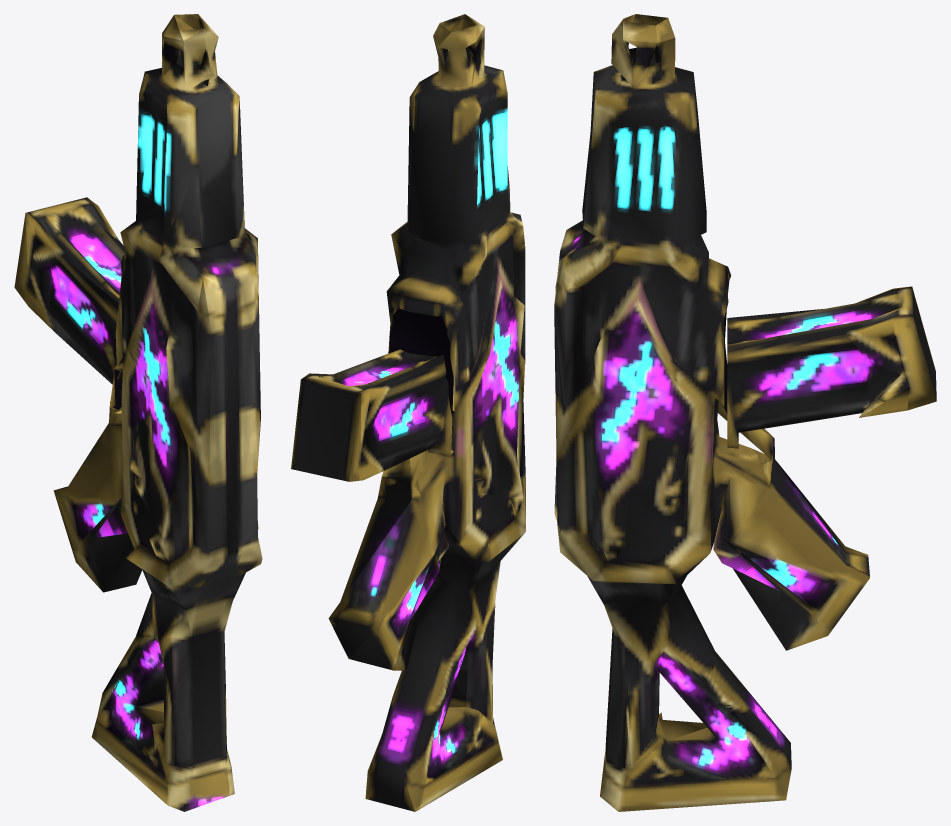
The model's file is k47_galaxy_relic.glb.
The picture shows the model from 3 angles, left to right: view 1: azimuth 30°, elevation 25°; view 2: azimuth 150°, elevation 25°; view 3: azimuth 270°, elevation 25°; orthographic projection. The views are drawn at different scales.
Parts seen in each view (by area): view 1: k47_galaxy_relic, part_mag; view 2: k47_galaxy_relic, part_mag; view 3: k47_galaxy_relic, part_mag.
Part boxes in pixels (left/top/right/bottom): k47_galaxy_relic: left=53, top=14, right=262, bottom=811; part_mag: left=14, top=197, right=125, bottom=409; k47_galaxy_relic: left=328, top=14, right=525, bottom=811; part_mag: left=291, top=349, right=453, bottom=481; k47_galaxy_relic: left=554, top=14, right=869, bottom=811; part_mag: left=727, top=286, right=936, bottom=448.
Size of the model in its own units: 0.1242 by 0.9156 by 0.4073.
Materials: 1 (1 with a texture image).
